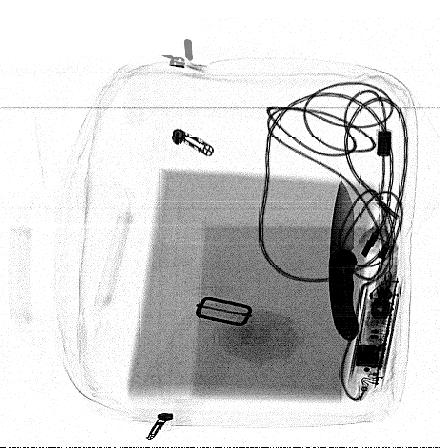Knife: (328, 177, 360, 343)
